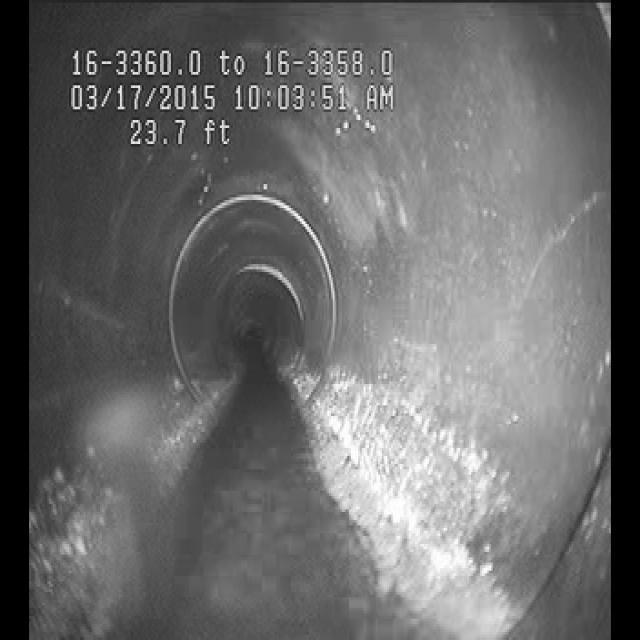Crack: (496, 170, 602, 357)
